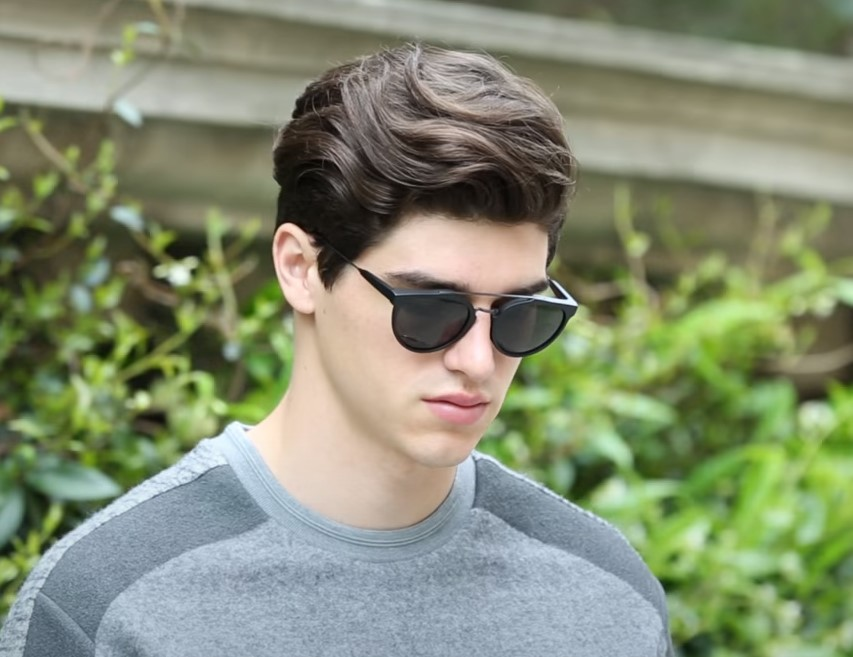face_no_mask: (265, 84, 575, 479)
